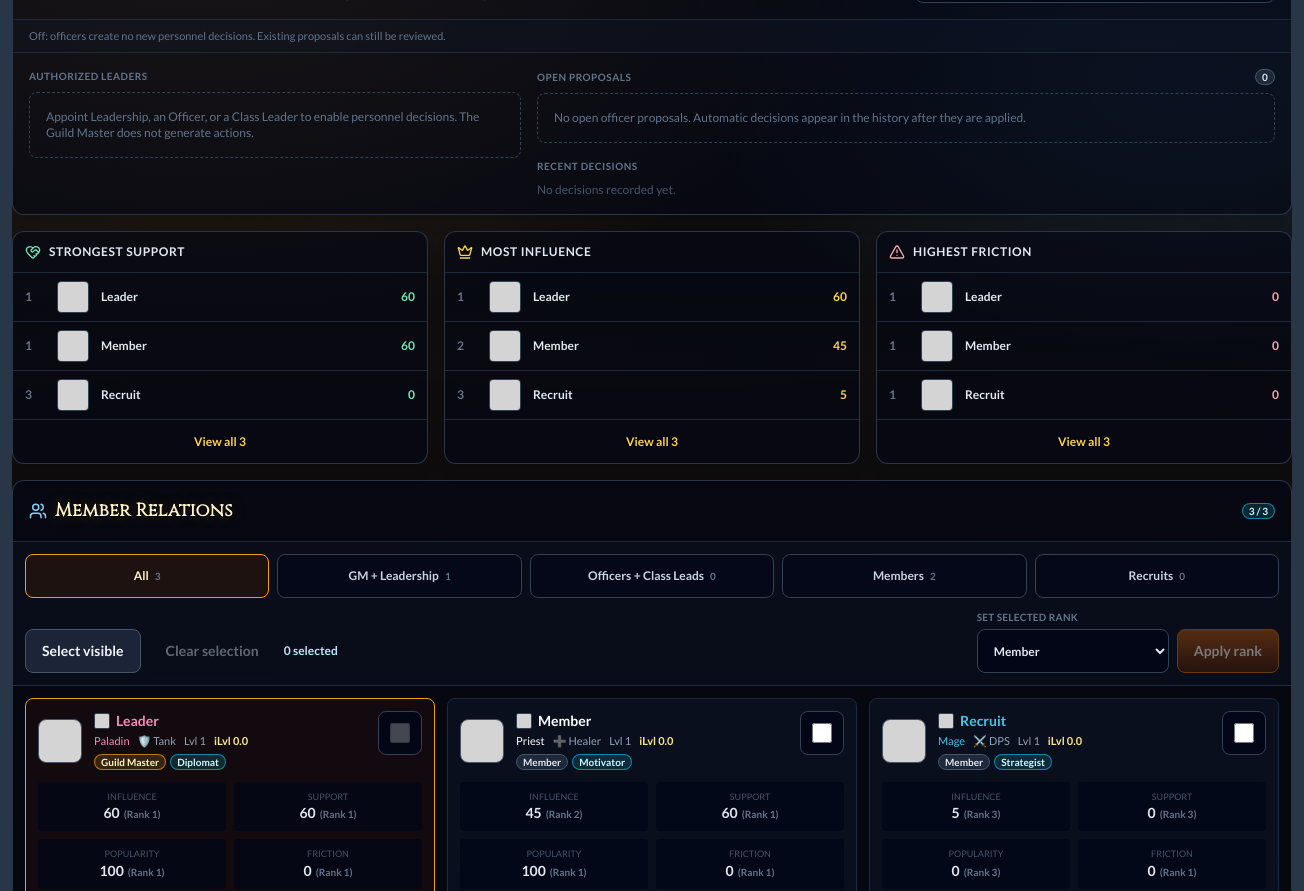
Test: GuildRelationsPage › opens complete focus rankings inline and switches between them
The width and height of the screenshot is (1304, 891).
(page scrolled)
What coordinates should you click on to do the following:
click the button with aria-label "View full Strongest Support ranking"
I would click on:
 (220, 441)
Its box is [13,419,427,463].
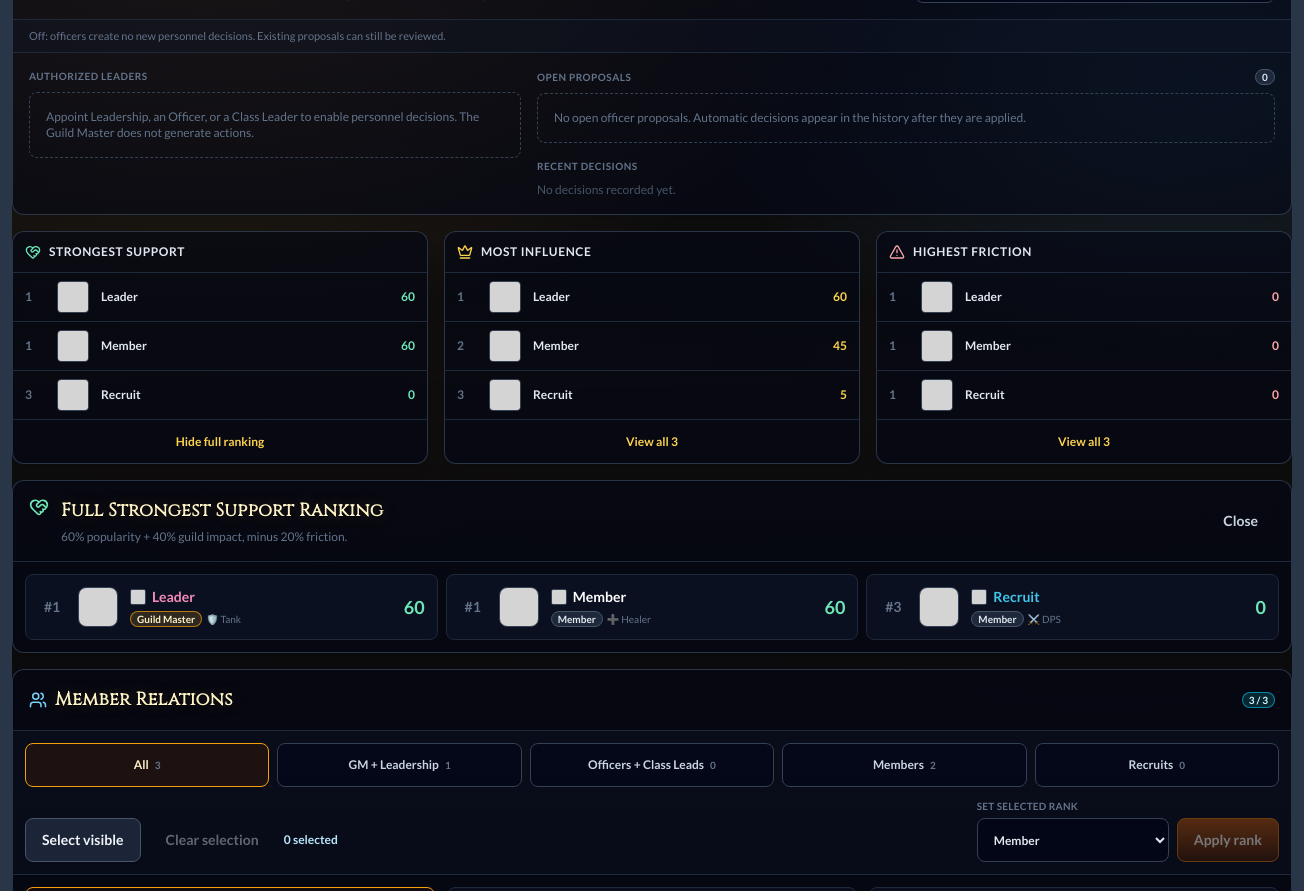
expect the heading "Full Strongest Support Ranking" is shown: met, box [61,497,383,525]
What coordinates should you click on to do the following:
click the button with aria-label "View full Most Influence ranking"
I would click on:
 (652, 441)
Its box is [445,419,859,463].
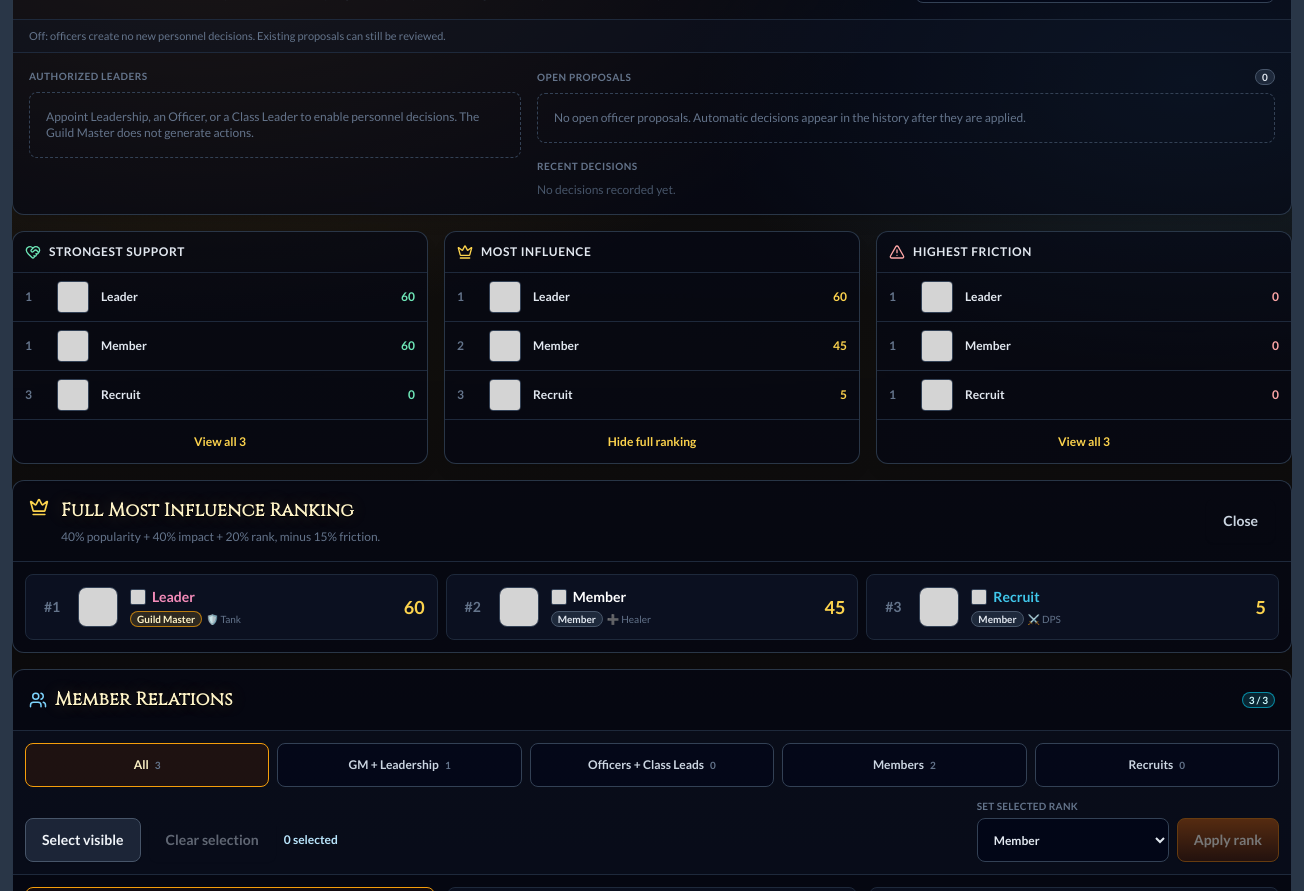
expect the heading "Full Most Influence Ranking" is shown: met, box [61,497,380,525]
expect the heading "Full Strongest Support Ranking" is gone: met
